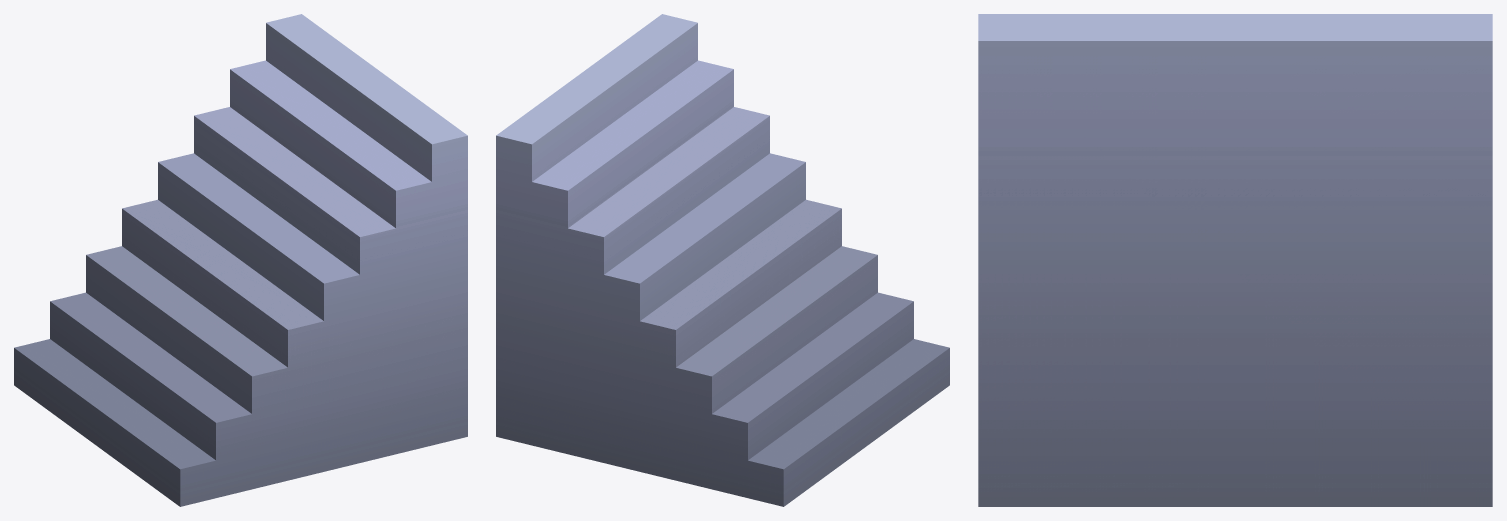
Rendered from stairs-small.glb.
3 renders of one model, left to right at view 1: azimuth 30°, elevation 25°; view 2: azimuth 150°, elevation 25°; view 3: azimuth 270°, elevation 25°, orthographic. The views are drawn at different scales.
Parts seen in each view (by area): view 1: stairs-small; view 2: stairs-small; view 3: stairs-small.
Boxes of the visible parts, x1,y1,x2,y2 form: stairs-small: (14, 14, 467, 506); stairs-small: (496, 14, 949, 506); stairs-small: (978, 14, 1492, 506).
Bounding box in the file's own units: 1 × 1 × 1.
1 material, 1 textured.
